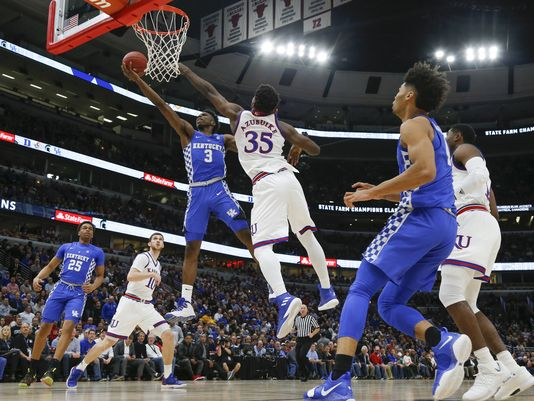basketball: (122, 50, 153, 79)
basketball player: (344, 59, 458, 401), (221, 85, 340, 352), (169, 79, 238, 323), (17, 215, 110, 388), (94, 224, 180, 394)
